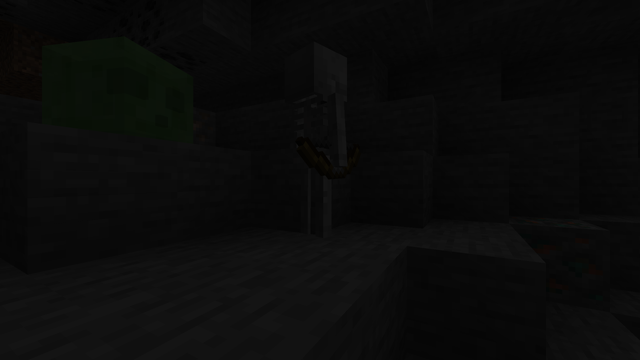slimes: (68, 23, 194, 135)
squelettes: (277, 39, 349, 243)
